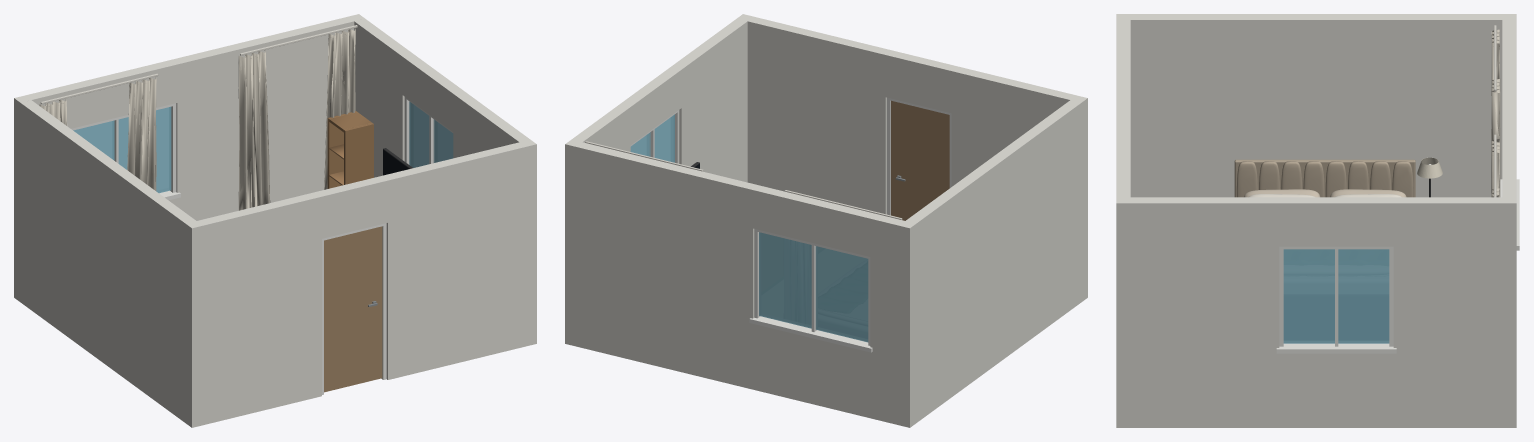
File: oursv11b.glb
The picture shows the model from 3 angles, left to right: view 1: azimuth 30°, elevation 25°; view 2: azimuth 150°, elevation 25°; view 3: azimuth 270°, elevation 25°; orthographic projection. The views are drawn at different scales.
Parts seen in each view (by area): view 1: wall|scenesmith_020__R00|0, wall|scenesmith_020__R00|2, wall|scenesmith_020__R00|1, wall|scenesmith_020__R00|3, Option V2 softly draped left linen panel, wall|scenesmith_020__R00|0 Door 0 | wood leaf, Bay divider, wall|scenesmith_020__R00|1 Window 0 | glazing, wall|scenesmith_020__R00|3 Window 0 | glazing, wall|scenesmith_020__R00|0 Door 0 | jamb, wall|scenesmith_020__R00|1 Window 0 | jamb, Option V2 continuous curtain track (+1 smaller); view 2: wall|scenesmith_020__R00|1, wall|scenesmith_020__R00|2, wall|scenesmith_020__R00|0, wall|scenesmith_020__R00|3, wall|scenesmith_020__R00|1 Window 0 | glazing, wall|scenesmith_020__R00|0 Door 0 | wood leaf, wall|scenesmith_020__R00|1 Window 0 | jamb, wall|scenesmith_020__R00|3 Window 0 | glazing, wall|scenesmith_020__R00|0 Door 0 | jamb, Option V2 continuous curtain track, wall|scenesmith_020__R00|3 Window 0 | jamb; view 3: wall|scenesmith_020__R00|3, wall|scenesmith_020__R00|2, wall|scenesmith_020__R00|3 Window 0 | glazing, wall|scenesmith_020__R00|1, wall|scenesmith_020__R00|0, V2 padded headboard backing, wall|scenesmith_020__R00|3 Window 0 | jamb, Option V2 softly draped left linen panel, V2 rear sleeping pillow, V2 cotton duvet folds, Lampshade, Option V2 continuous curtain track.
Boxes of the visible parts, <box> form: wall|scenesmith_020__R00|0: <box>192,142,525,427</box>; wall|scenesmith_020__R00|2: <box>20,100,202,427</box>; wall|scenesmith_020__R00|1: <box>14,14,364,301</box>; wall|scenesmith_020__R00|3: <box>354,18,536,346</box>; Option V2 softly draped left linen panel: <box>39,28,355,210</box>; wall|scenesmith_020__R00|0 Door 0 | wood leaf: <box>324,226,382,392</box>; Bay divider: <box>327,111,373,188</box>; wall|scenesmith_020__R00|1 Window 0 | glazing: <box>73,106,171,193</box>; wall|scenesmith_020__R00|3 Window 0 | glazing: <box>409,101,453,167</box>; wall|scenesmith_020__R00|0 Door 0 | jamb: <box>322,223,386,394</box>; wall|scenesmith_020__R00|1 Window 0 | jamb: <box>71,103,180,200</box>; Option V2 continuous curtain track: <box>40,25,357,104</box>; wall|scenesmith_020__R00|1: <box>565,139,916,427</box>; wall|scenesmith_020__R00|2: <box>899,95,1087,427</box>; wall|scenesmith_020__R00|0: <box>747,16,1076,214</box>; wall|scenesmith_020__R00|3: <box>565,14,753,346</box>; wall|scenesmith_020__R00|1 Window 0 | glazing: <box>759,232,868,342</box>; wall|scenesmith_020__R00|0 Door 0 | wood leaf: <box>891,100,949,220</box>; wall|scenesmith_020__R00|1 Window 0 | jamb: <box>749,229,872,352</box>; wall|scenesmith_020__R00|3 Window 0 | glazing: <box>630,114,674,162</box>; wall|scenesmith_020__R00|0 Door 0 | jamb: <box>887,97,951,215</box>; Option V2 continuous curtain track: <box>585,141,902,219</box>; wall|scenesmith_020__R00|3 Window 0 | jamb: <box>630,110,679,163</box>; wall|scenesmith_020__R00|3: <box>1116,197,1502,427</box>; wall|scenesmith_020__R00|2: <box>1116,14,1502,197</box>; wall|scenesmith_020__R00|3 Window 0 | glazing: <box>1283,249,1389,343</box>; wall|scenesmith_020__R00|1: <box>1502,14,1516,427</box>; wall|scenesmith_020__R00|0: <box>1116,20,1130,427</box>; V2 padded headboard backing: <box>1234,159,1415,197</box>; wall|scenesmith_020__R00|3 Window 0 | jamb: <box>1276,246,1396,353</box>; Option V2 softly draped left linen panel: <box>1491,29,1500,197</box>; V2 rear sleeping pillow: <box>1244,189,1406,197</box>; V2 cotton duvet folds: <box>1248,194,1401,197</box>; Lampshade: <box>1417,157,1442,178</box>; Option V2 continuous curtain track: <box>1494,25,1496,197</box>.
Bounding box in the file's own units: 4.73 × 2.61 × 4.23.
